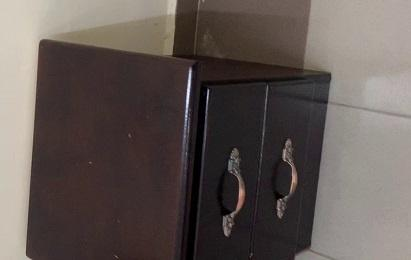cabinet_door: (197, 84, 259, 260), (260, 82, 310, 256)
handle: (216, 144, 249, 240), (274, 135, 302, 221)
